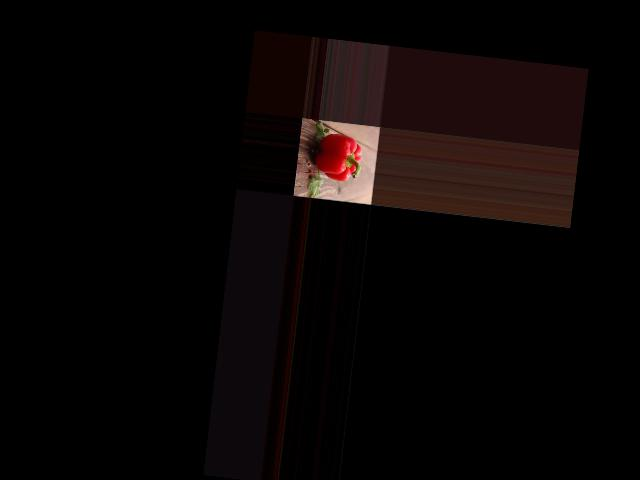bell_pepper: (311, 128, 367, 185)
